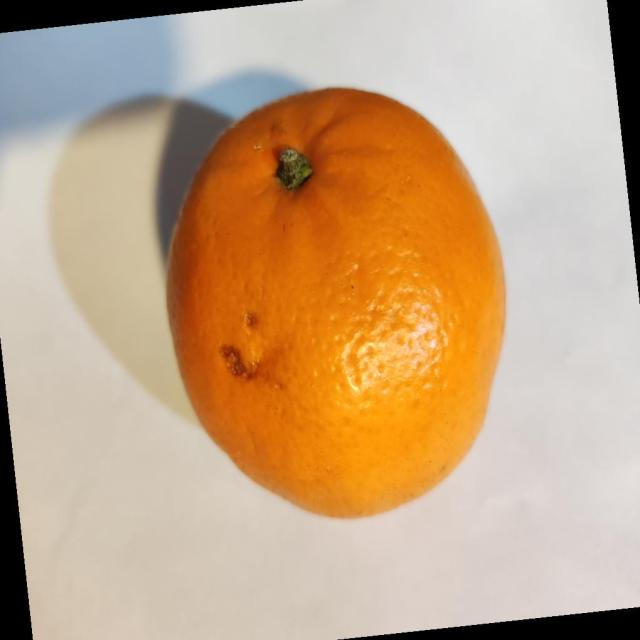fresh orange: (164, 86, 507, 520)
